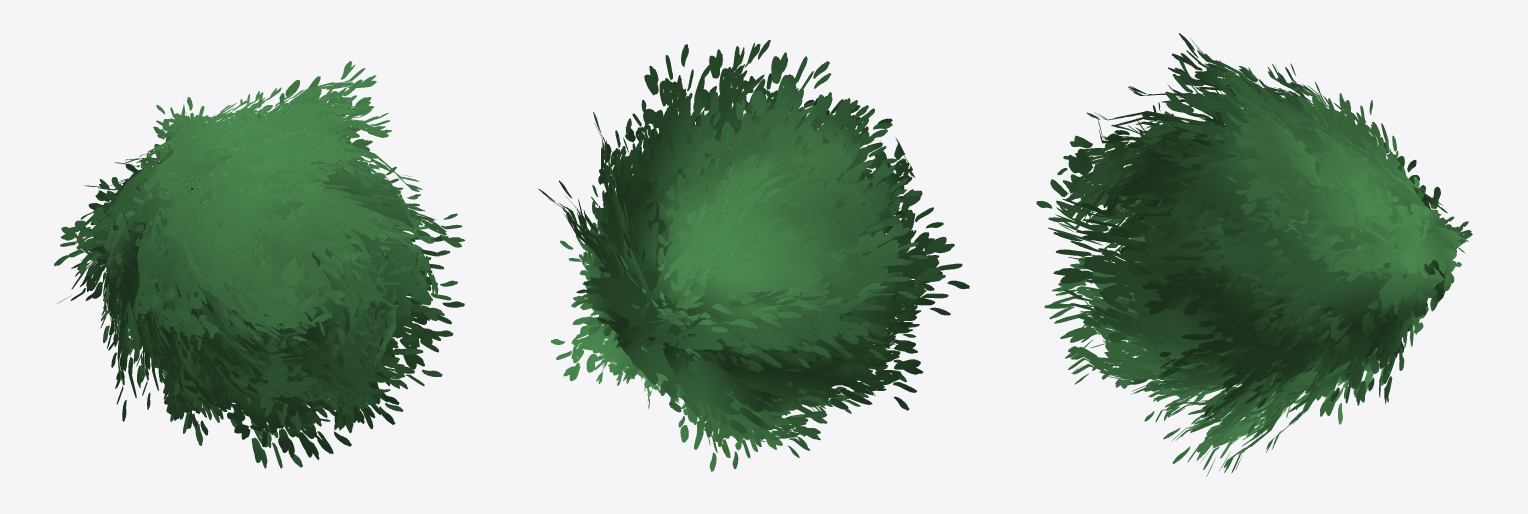
File: Buisson_Test02.fbx
3 renders of one model, left to right at view 1: azimuth 30°, elevation 25°; view 2: azimuth 150°, elevation 25°; view 3: azimuth 270°, elevation 25°, orthographic. The views are drawn at different scales.
Visible parts, largest first — view 1: Plane.202; view 2: Plane.202; view 3: Plane.202.
Part boxes in pixels (x1,y1,x2,y2): Plane.202: [54, 61, 465, 468]; Plane.202: [538, 39, 969, 471]; Plane.202: [1036, 33, 1472, 476].
Size of the model in its own units: 298 by 304 by 310.
